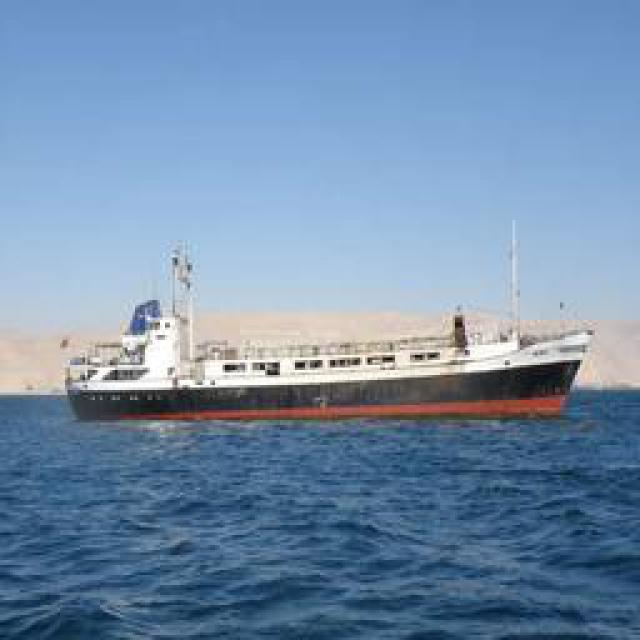Ship: (63, 304, 601, 424)
